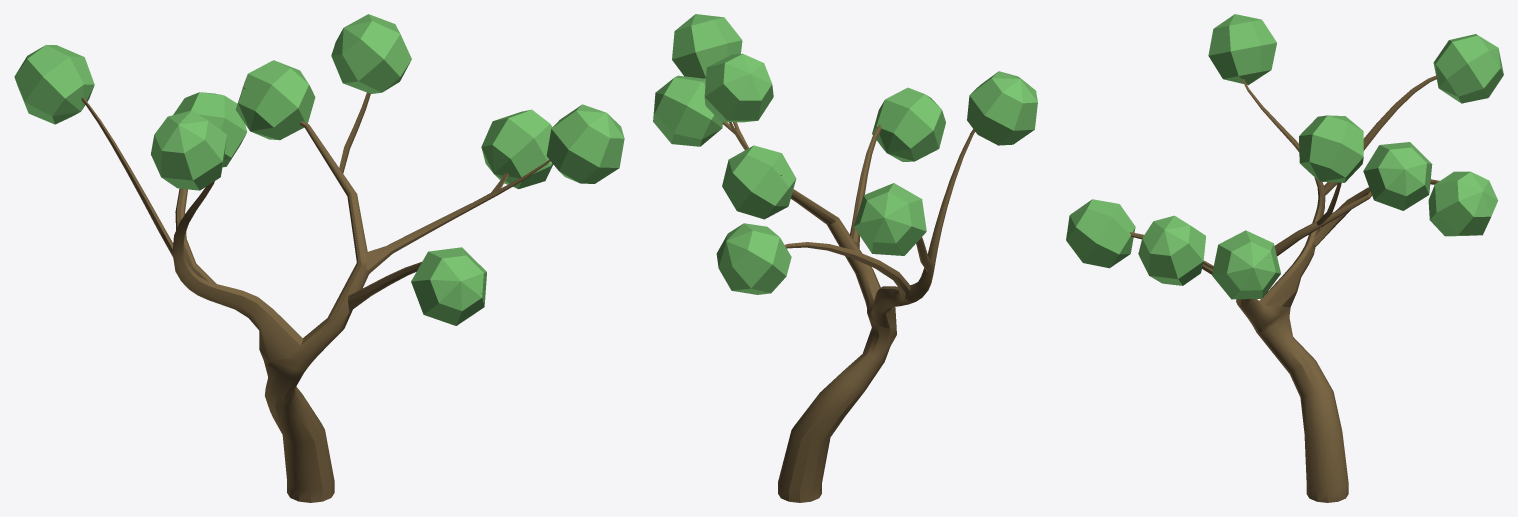
Rendered from tree_4_leaf.fbx.
The picture shows the model from 3 angles, left to right: view 1: azimuth 30°, elevation 25°; view 2: azimuth 150°, elevation 25°; view 3: azimuth 270°, elevation 25°; orthographic projection. The views are drawn at different scales.
Parts seen in each view (by area): view 1: polySurface2; view 2: polySurface2; view 3: polySurface2.
Part boxes in pixels (x1,y1,x2,y2): polySurface2: (14,14,624,502); polySurface2: (653,14,1037,502); polySurface2: (1066,14,1503,502).
Size of the model in its own units: 83.96 by 84.72 by 83.
